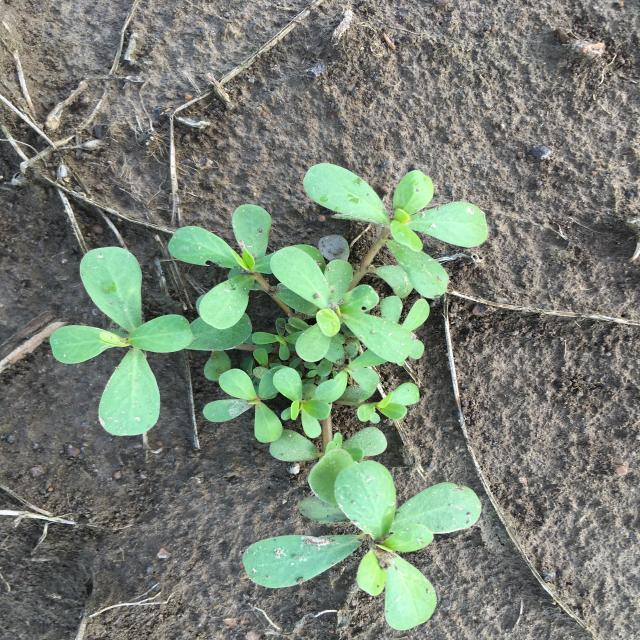Purslane: (49, 163, 488, 631)
